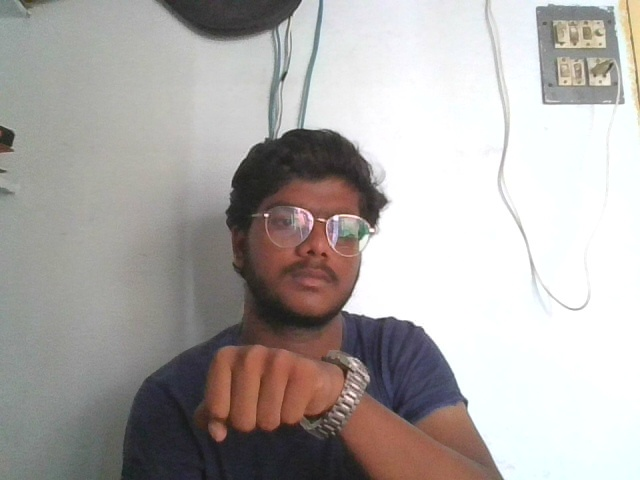Yes: (194, 336, 352, 443)
